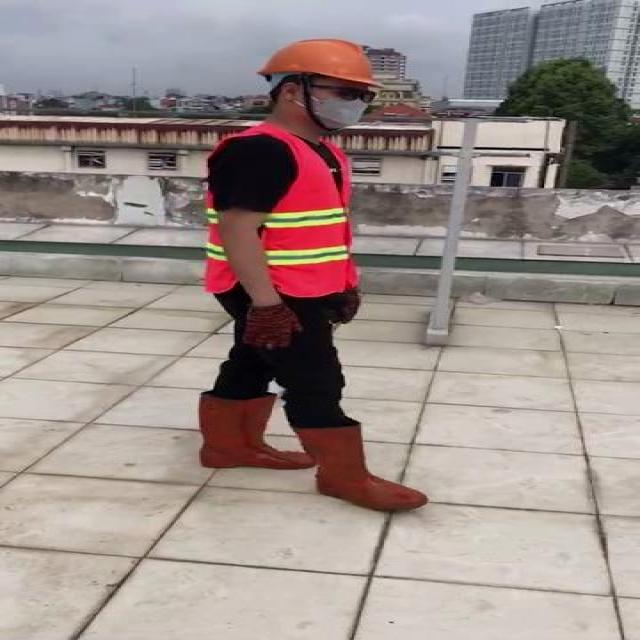boots: (295, 422, 429, 511), (199, 395, 301, 471)
face_mask: (310, 84, 380, 130)
glasses: (327, 84, 381, 108)
hand_glove: (242, 304, 300, 350), (326, 295, 364, 325)
head_helmet: (258, 38, 378, 86)
person: (194, 38, 432, 512)
vest: (201, 128, 357, 295)
